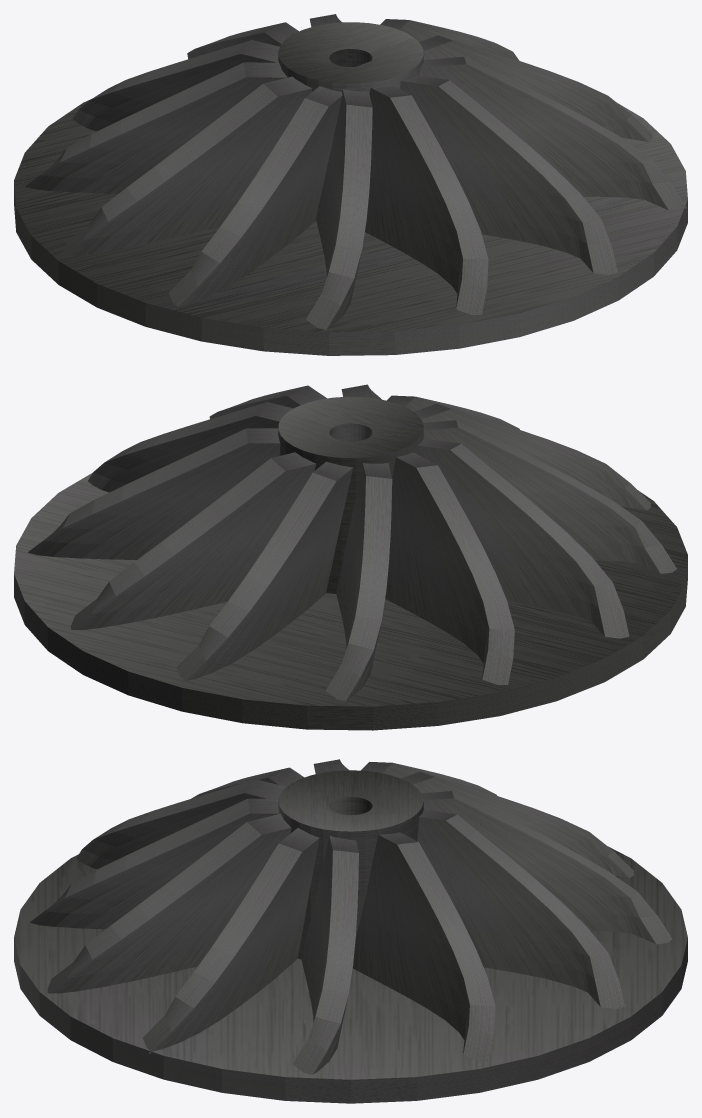
File: tikitown_impeller.fbx
3 renders of one model, top to bottom at view 1: azimuth 30°, elevation 25°; view 2: azimuth 150°, elevation 25°; view 3: azimuth 270°, elevation 25°, orthographic.
Parts seen in each view (by area): view 1: Cube.004; view 2: Cube.004; view 3: Cube.004.
Boxes of the visible parts, left/top/right/bottom form: Cube.004: left=14, top=14, right=687, bottom=355; Cube.004: left=14, top=384, right=687, bottom=730; Cube.004: left=14, top=759, right=687, bottom=1103.
Bounding box in the file's own units: 0.5047 × 0.1325 × 0.5047.
